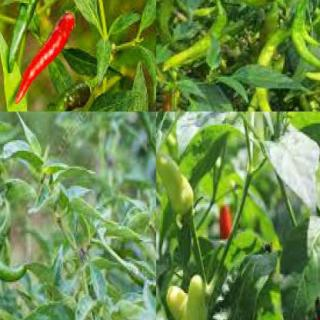green_chilli: (159, 8, 229, 74), (0, 148, 34, 277), (6, 0, 59, 75), (156, 153, 196, 219), (245, 54, 288, 111), (255, 24, 281, 111), (288, 18, 320, 72), (52, 80, 94, 111), (182, 272, 208, 319), (165, 282, 188, 320), (304, 39, 319, 86), (209, 0, 277, 9)
